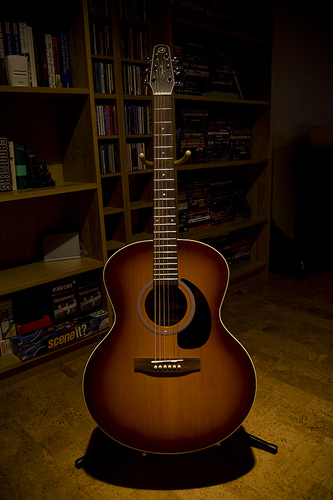guitar: (81, 42, 256, 449)
